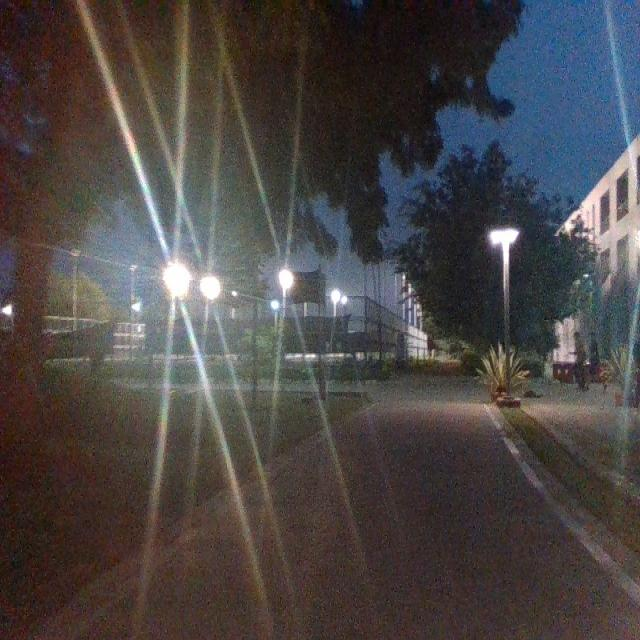lane: (77, 402, 640, 640)
